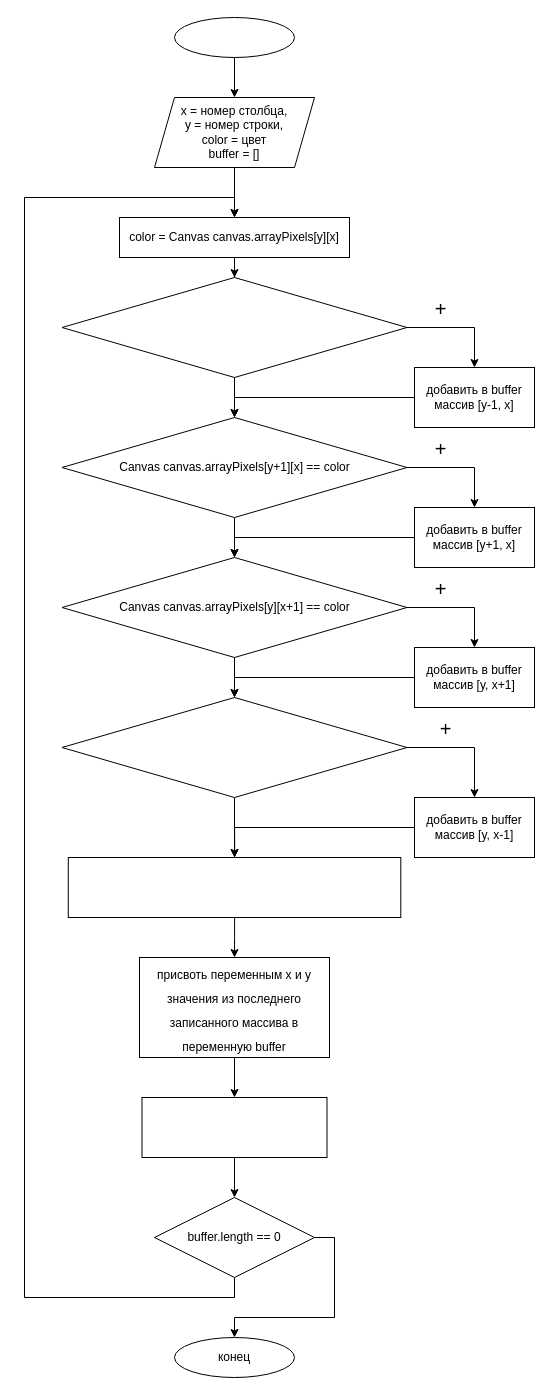
Image size: 552x1395. Some labels were removed from this diagram. Each missing label, with the box of its shape:
Canvas canvas.arrayPixels[y-1][x] == color: (61, 276, 407, 378)
Canvas canvas.arrayPixels[y][x-1] == color: (61, 696, 407, 798)
Canvas canvas.arrayPixels[y][x] = canvas.currentColor: (67, 856, 401, 918)
начало: (174, 16, 294, 58)
удалить последний массив из переменной buffer: (141, 1096, 327, 1158)
